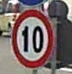limite 10: (11, 9, 54, 68)
